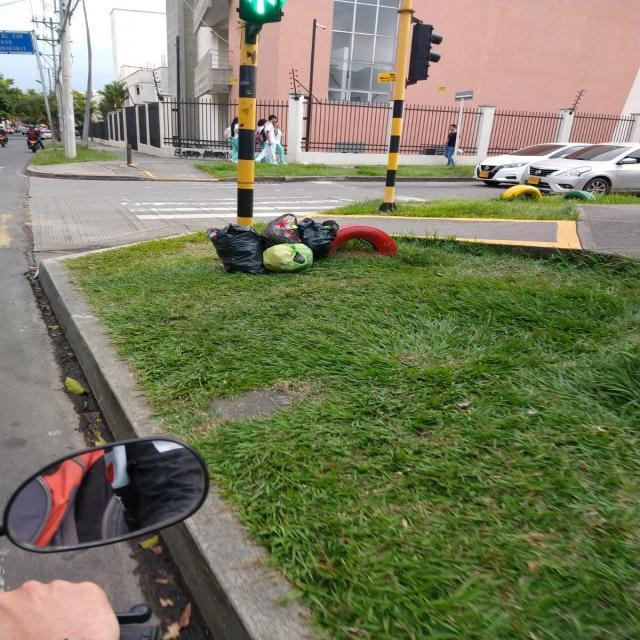Garbage_Bag: (202, 220, 276, 276), (262, 242, 318, 274), (298, 218, 336, 260), (262, 214, 300, 245)
